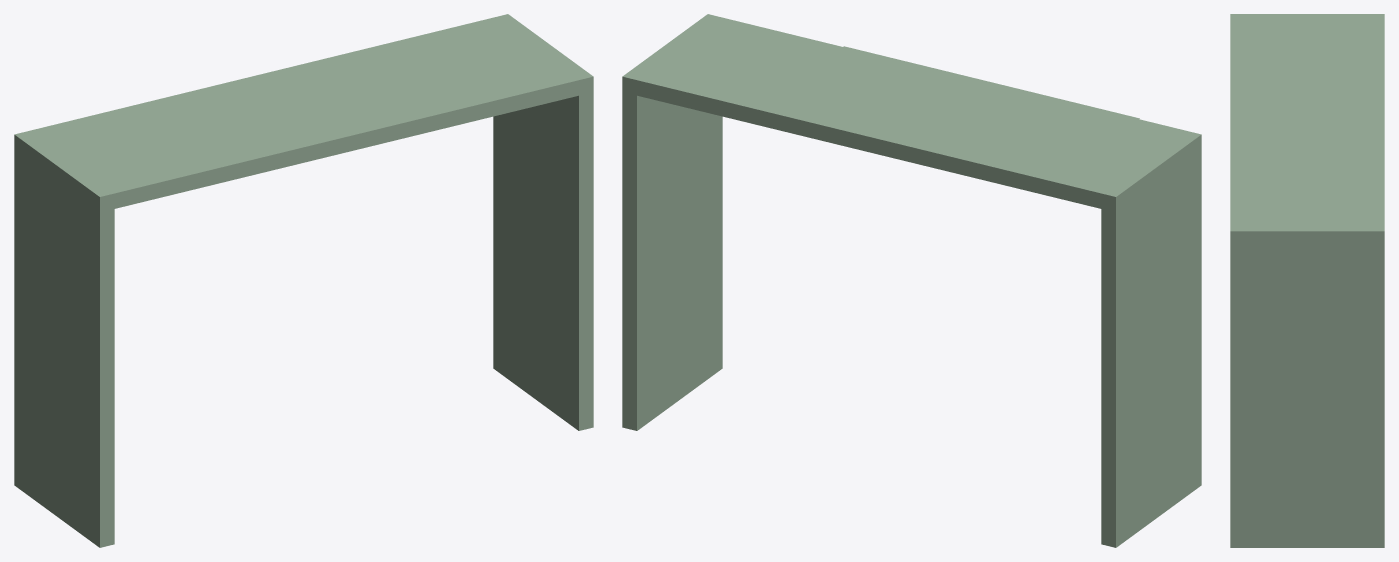
File: waist_rot.dae
3 renders of one model, left to right at view 1: azimuth 30°, elevation 25°; view 2: azimuth 150°, elevation 25°; view 3: azimuth 270°, elevation 25°, orthographic. The views are drawn at different scales.
Parts seen in each view (by area): view 1: waist_rot; view 2: waist_rot; view 3: waist_rot.
Part boxes in pixels (x1,y1,x2,y2): waist_rot: [14, 14, 593, 547]; waist_rot: [622, 14, 1201, 547]; waist_rot: [1230, 14, 1384, 547].
Size of the model in its own units: 0.1 by 0.03 by 0.0683.
